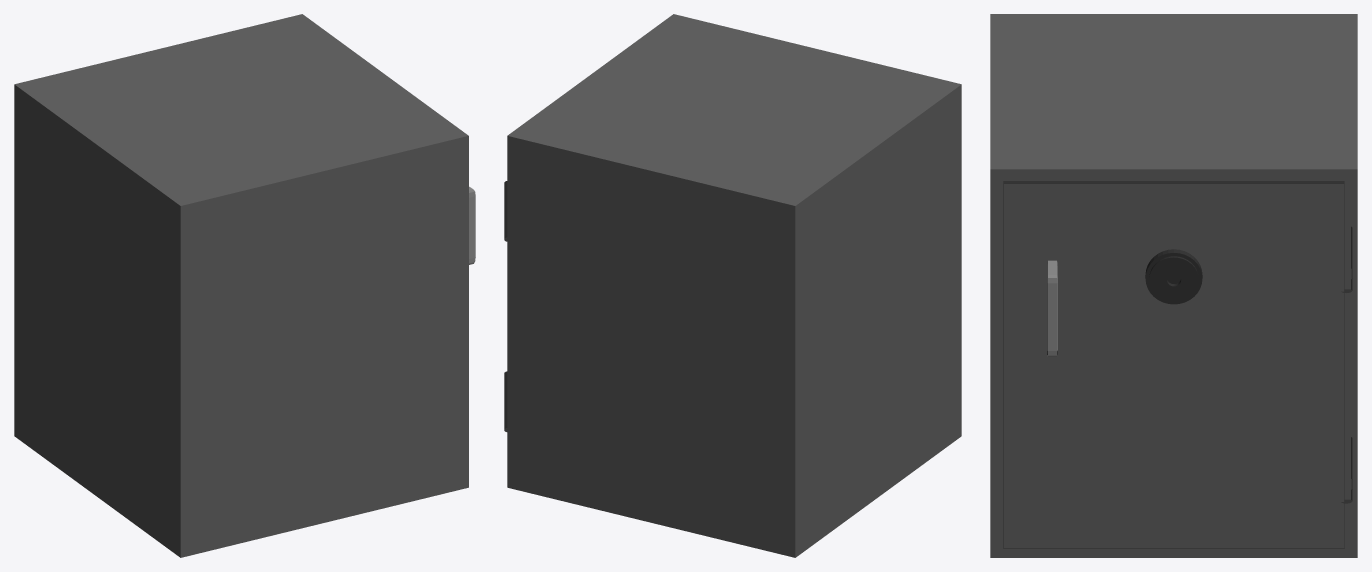
File: Caja Fuerte.glb
The picture shows the model from 3 angles, left to right: view 1: azimuth 30°, elevation 25°; view 2: azimuth 150°, elevation 25°; view 3: azimuth 270°, elevation 25°; orthographic projection. The views are drawn at different scales.
Parts seen in each view (by area): view 1: Cube; view 2: Cube; view 3: Cylinder, Cube.
Part boxes in pixels (x1=…): Cube: x1=14, y1=14, x2=468, y2=557; Cube: x1=507, y1=14, x2=961, y2=557; Cylinder: x1=1003, y1=181, x2=1352, y2=548; Cube: x1=990, y1=14, x2=1357, y2=557.
Size of the model in its own units: 0.3343 by 0.3501 by 0.3.
Materials: 2 (2 with a texture image).
